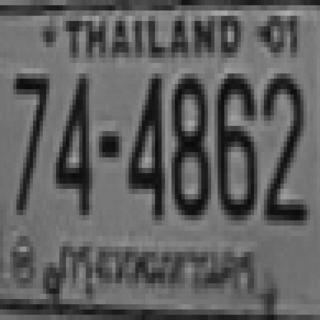N02: (260, 71, 304, 218)
N04: (125, 73, 162, 215), (53, 71, 89, 213)
N06: (214, 73, 254, 215)
N07: (12, 68, 48, 210)
N08: (172, 73, 208, 215)
P04: (50, 238, 262, 304)
